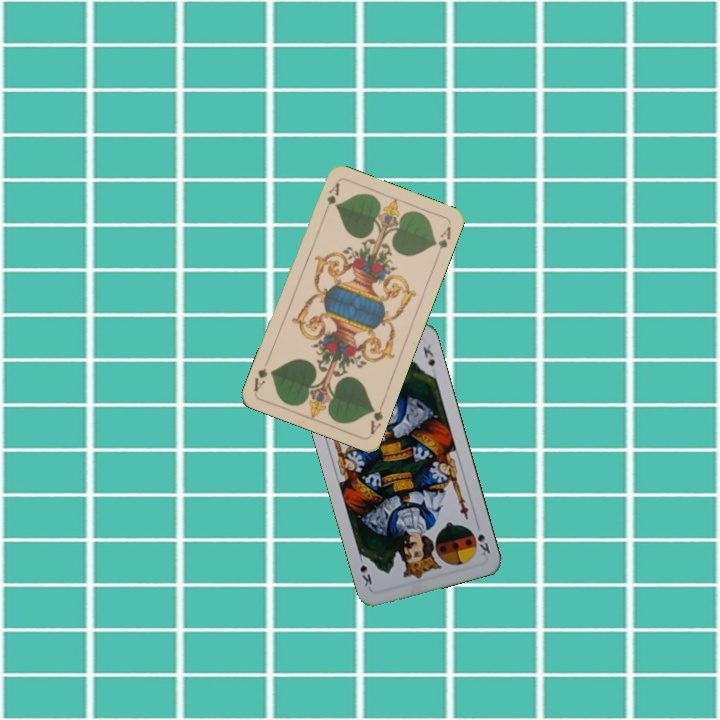GA: (320, 178, 342, 217), (366, 398, 387, 437)
SK: (473, 530, 493, 558)
